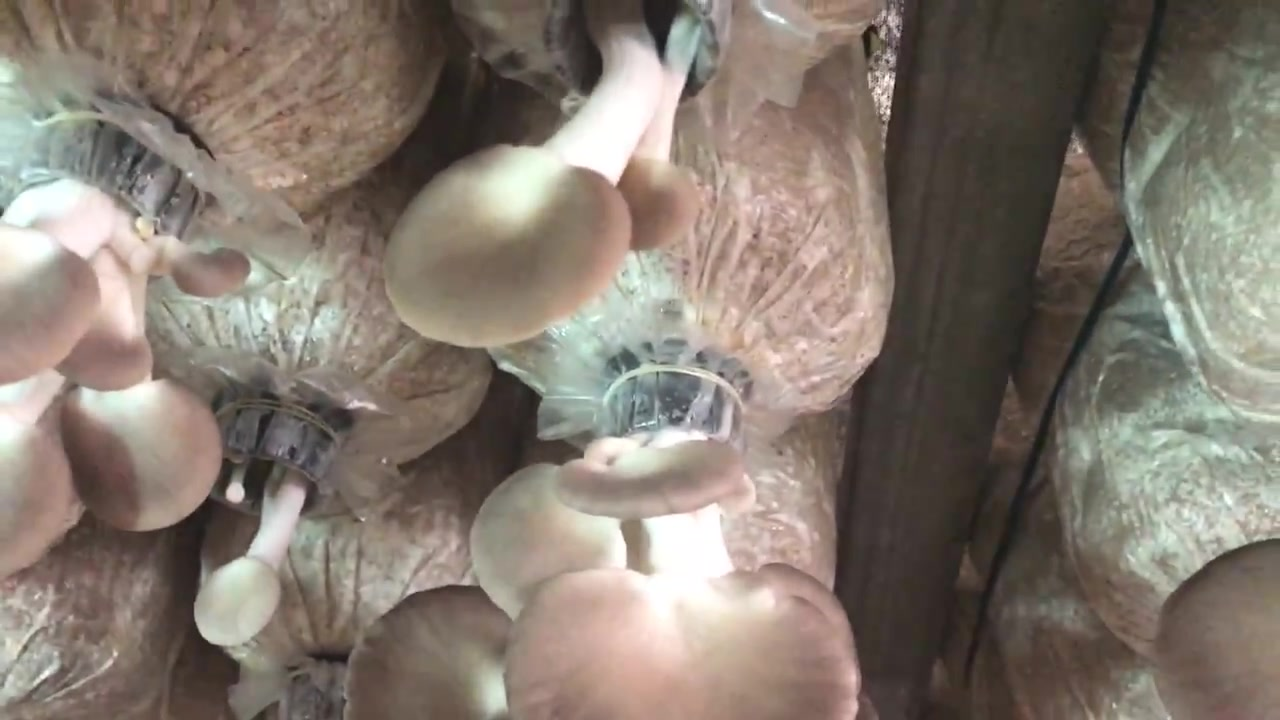nam: (344, 371, 855, 717), (386, 1, 734, 349), (1, 114, 248, 574), (195, 387, 350, 648), (1155, 541, 1280, 718)
